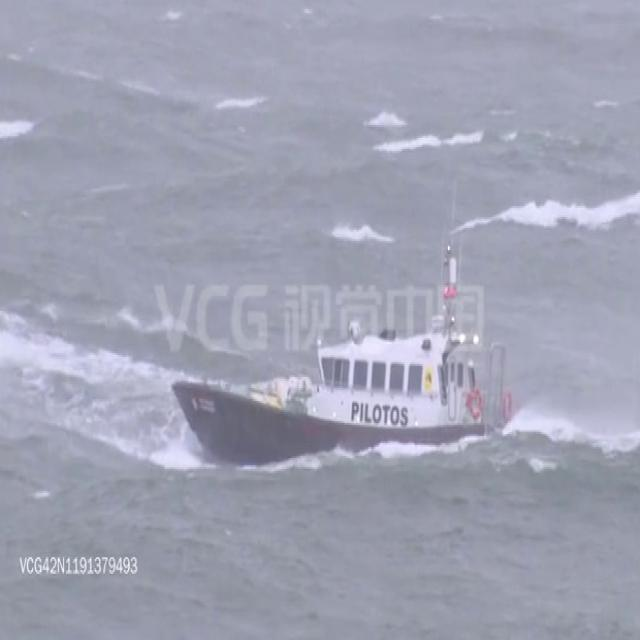houseboat: (167, 257, 512, 472)
